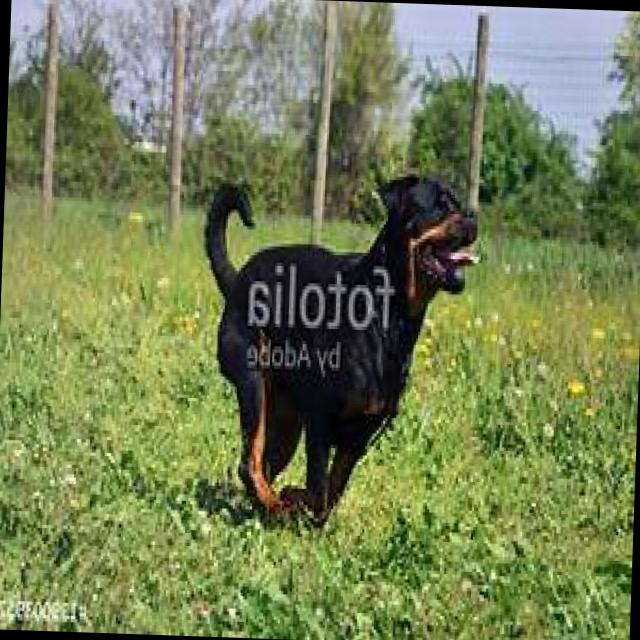dog: (194, 166, 477, 525)
